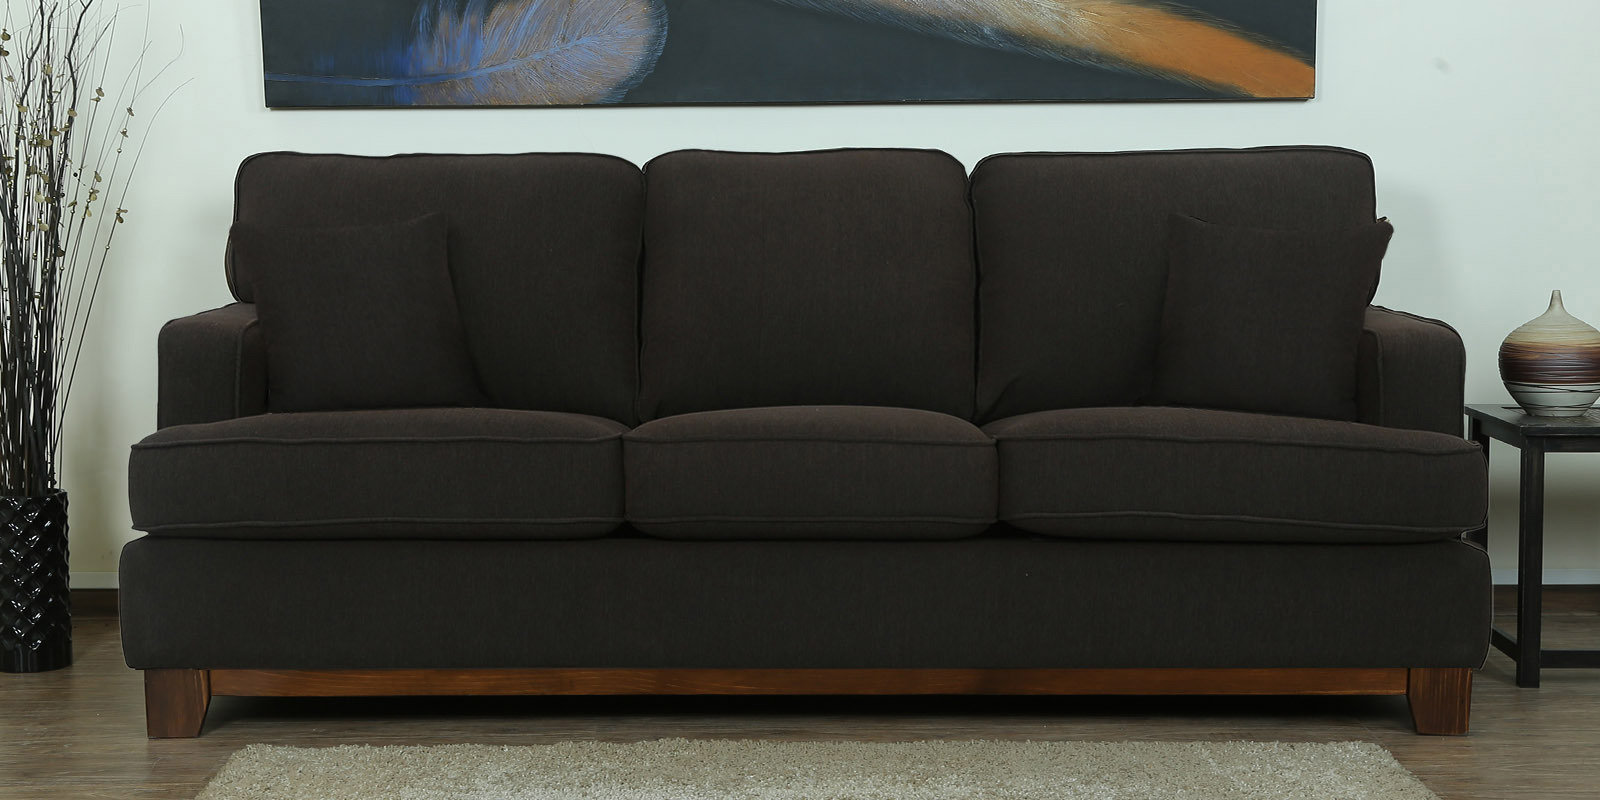Parana Three Seater Sofa in Chestnut Brown Color by CasaCraft: (115, 144, 1497, 741)
